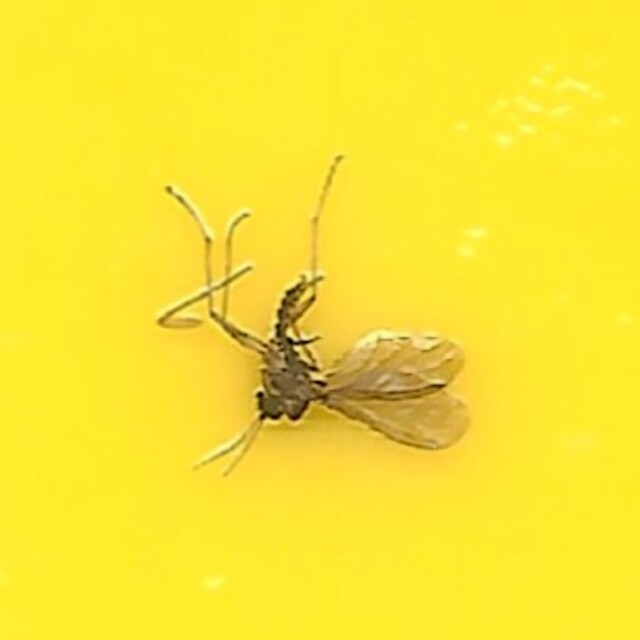Nematocera: (169, 181, 471, 459)
